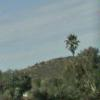Palm tree: (63, 30, 81, 57)
